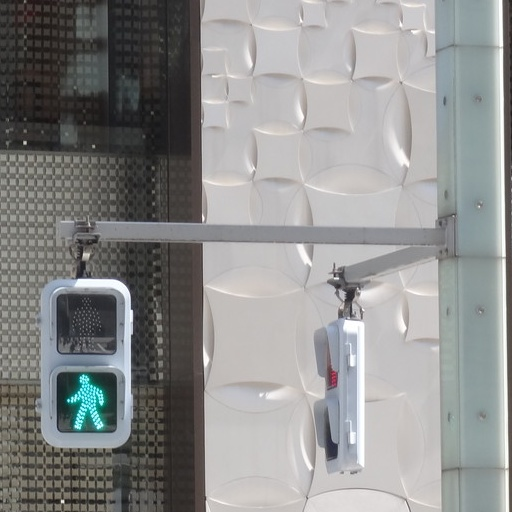Pedestrian_Signal_Blue: (38, 278, 133, 451)
